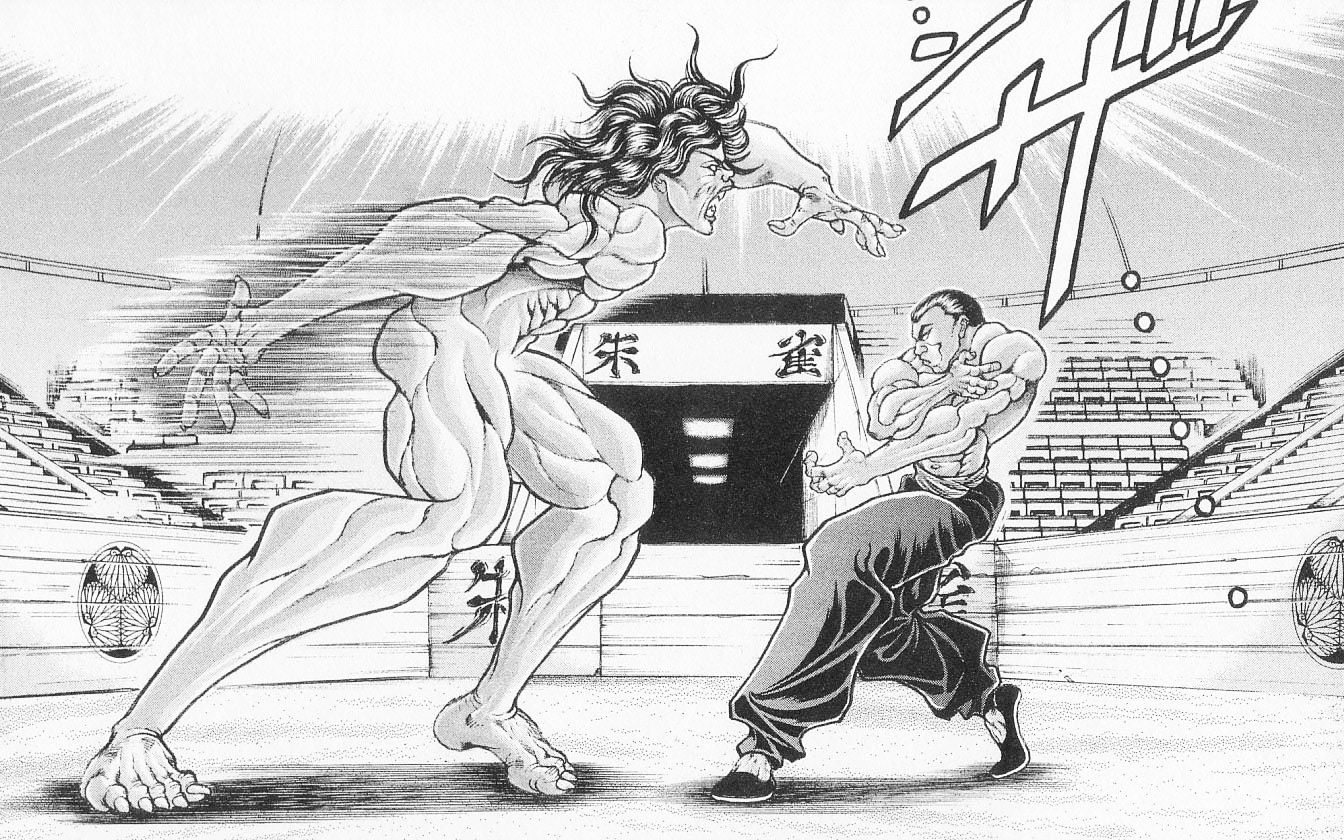Vignetta: (1, 2, 1344, 835)
